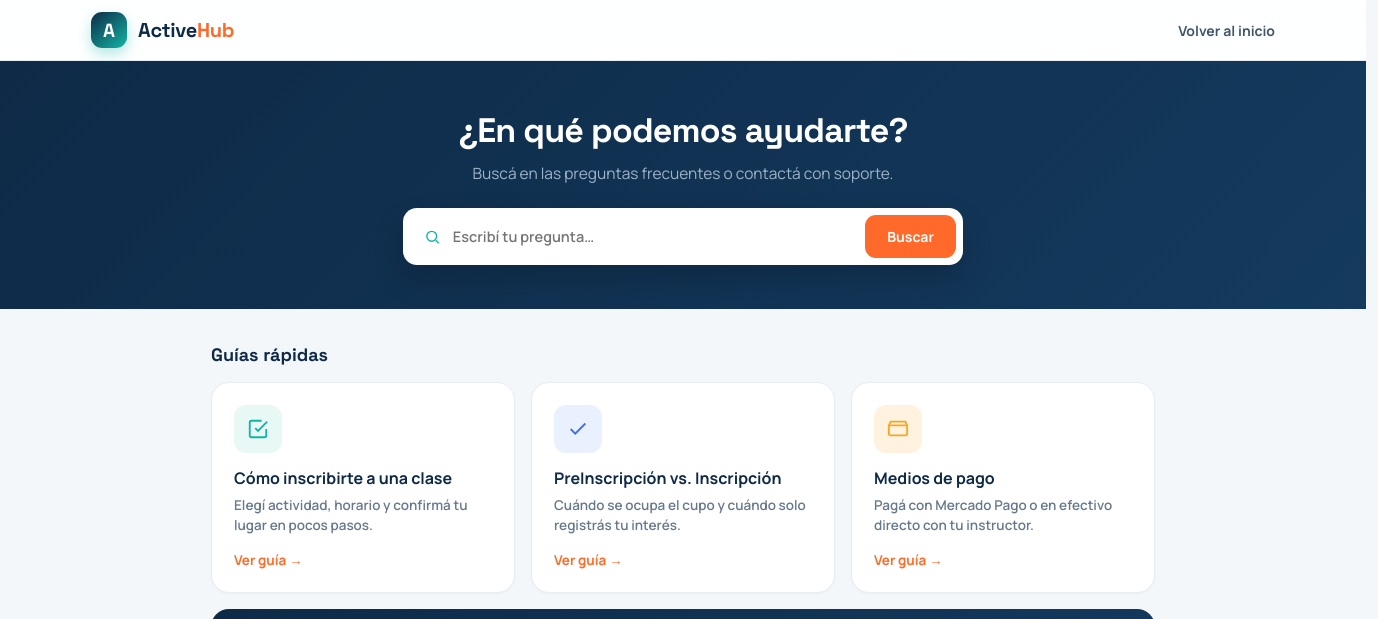
Test: preguntas frecuentes › sin coincidencias lo dice en vez de mostrar una lista vacía
Type "cotizacion del dolar" into the field with placeholder "Escribí tu pregunta…" at (647, 236), box top-left (451, 226), bottom-right (843, 247)
(page scrolled)
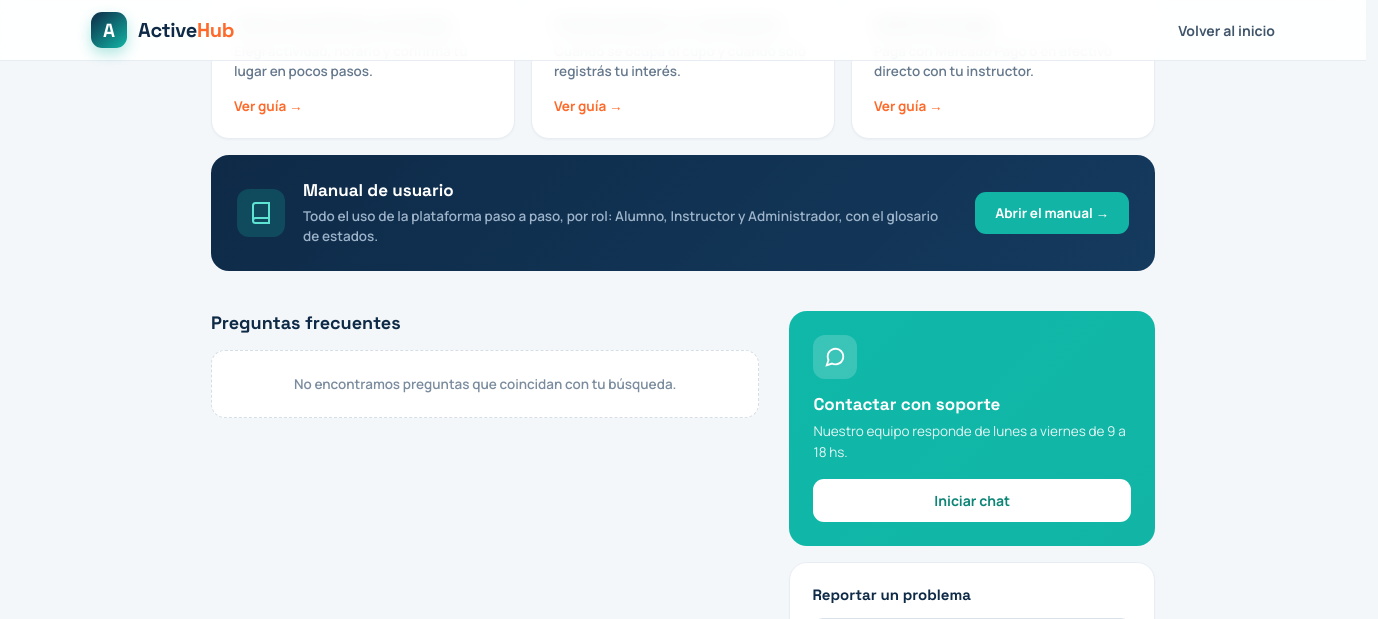
Check: the text "No encontramos preguntas que coincidan con tu búsqueda." is shown, box top-left (211, 350), bottom-right (759, 418)
